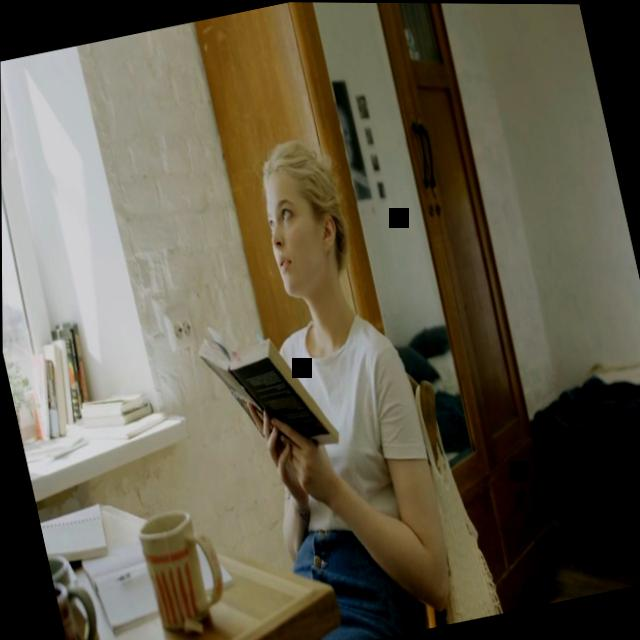NO-Mask: (256, 171, 336, 303)
